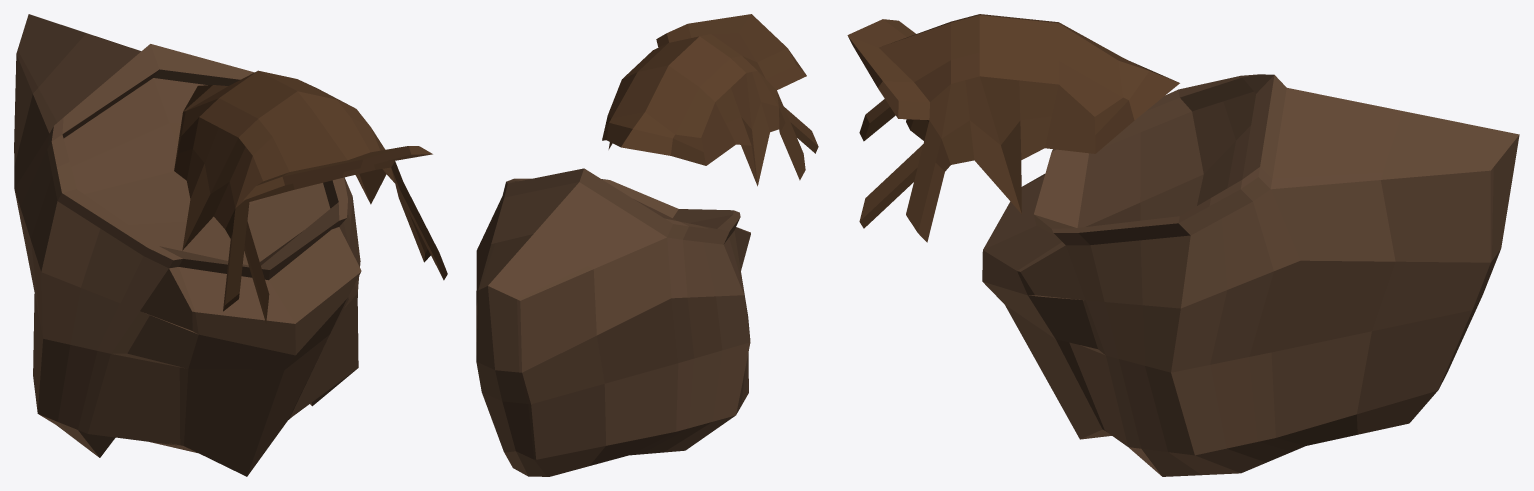
Rendered from Worker_Ant_Armour.fbx.
3 views of the same model, side by side, from view 1: azimuth 30°, elevation 25°; view 2: azimuth 150°, elevation 25°; view 3: azimuth 270°, elevation 25° (orthographic). The views are drawn at different scales.
Parts seen in each view (by area): view 1: Chest piece, helmet; view 2: Chest piece, helmet; view 3: Chest piece, helmet.
Part boxes in pixels (box(x1,y1,x2,y2)): Chest piece: box(14, 14, 361, 476); helmet: box(174, 70, 447, 323); Chest piece: box(476, 168, 750, 476); helmet: box(602, 14, 818, 186); Chest piece: box(982, 74, 1519, 476); helmet: box(847, 14, 1179, 242).
Bounding box in the file's own units: 195 × 247 × 355.
